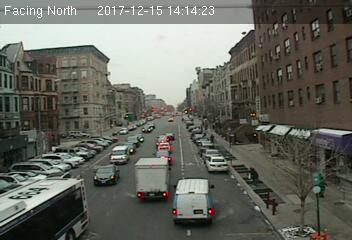bus: (1, 176, 90, 240)
car: (171, 177, 217, 225), (94, 163, 120, 187), (203, 155, 230, 173), (110, 145, 130, 165), (152, 150, 174, 163)
truck: (133, 156, 171, 202)
